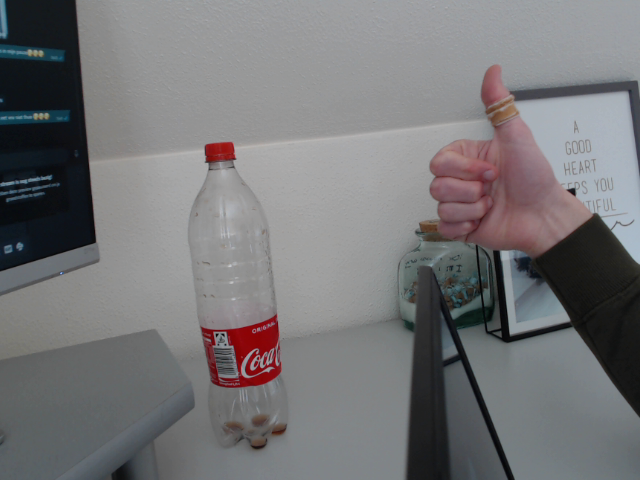bottle: (188, 142, 289, 449)
